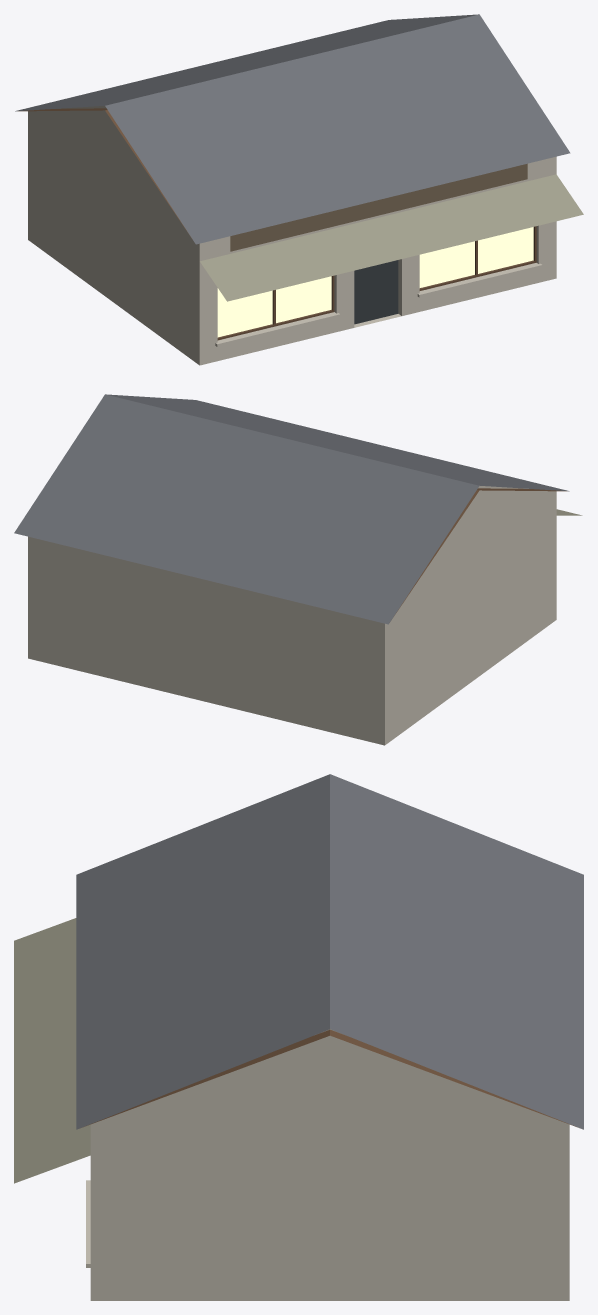
File: cafe.glb
The picture shows the model from 3 angles, top to bottom: view 1: azimuth 30°, elevation 25°; view 2: azimuth 150°, elevation 25°; view 3: azimuth 270°, elevation 25°; orthographic projection. The views are drawn at different scales.
Visible parts, largest first — view 1: cafe; view 2: cafe; view 3: cafe.
Boxes of the visible parts, bbox=[...] form: cafe: bbox=[15, 14, 583, 365]; cafe: bbox=[14, 394, 582, 745]; cafe: bbox=[14, 774, 583, 1300].
Size of the model in its own units: 12.6 by 6.4 by 11.9.
